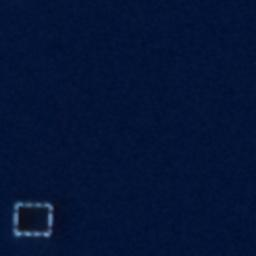square_solid: (9, 196, 57, 242)
